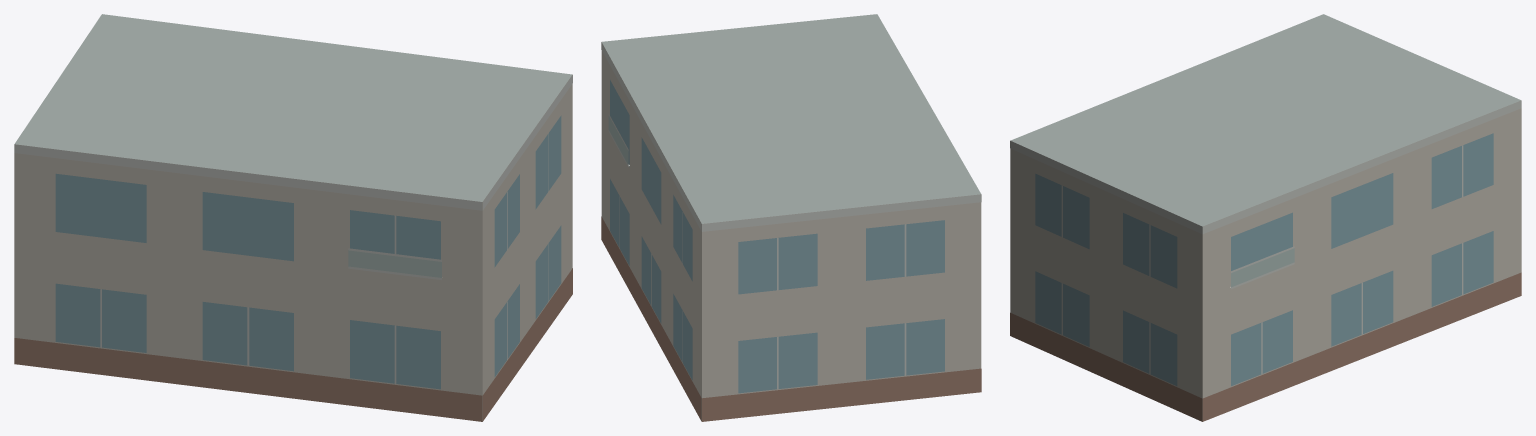
Rendered from survey-upis-32855479.glb.
3 views of the same model, side by side, from view 1: azimuth 30°, elevation 25°; view 2: azimuth 150°, elevation 25°; view 3: azimuth 270°, elevation 25° (orthographic). The views are drawn at different scales.
Parts seen in each view (by area): view 1: survey-upis-32855479.tmp; view 2: survey-upis-32855479.tmp; view 3: survey-upis-32855479.tmp.
Part boxes in pixels (left/top/right/bottom): survey-upis-32855479.tmp: left=14, top=14, right=572, bottom=421; survey-upis-32855479.tmp: left=601, top=14, right=981, bottom=421; survey-upis-32855479.tmp: left=1010, top=14, right=1521, bottom=421.
Size of the model in its own units: 14.25 by 6.1 by 14.48.
